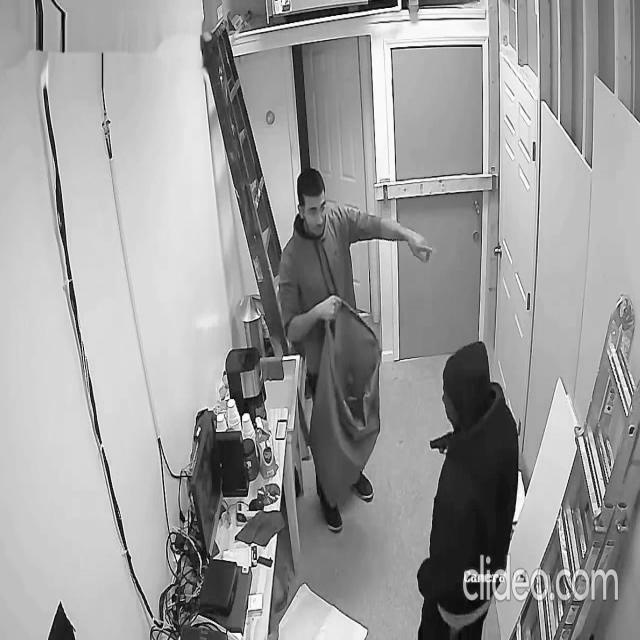gun: (429, 426, 455, 456)
person: (278, 166, 434, 534)
person with a gun: (417, 339, 519, 640)
